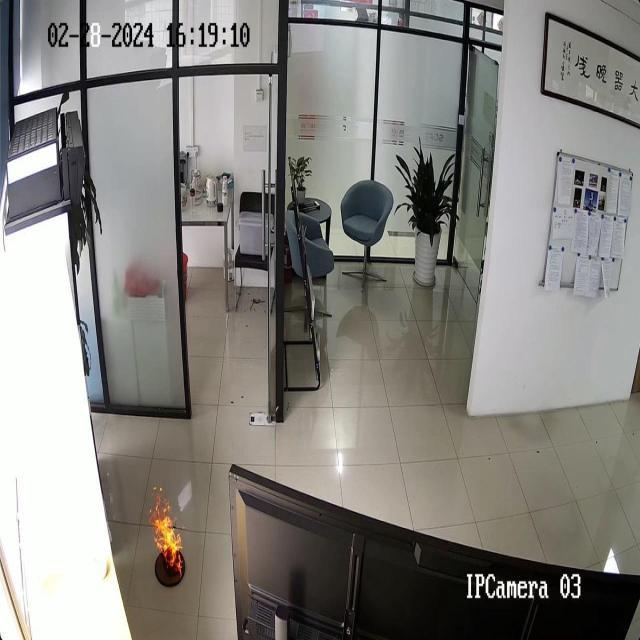smoke: (149, 487, 183, 580)
